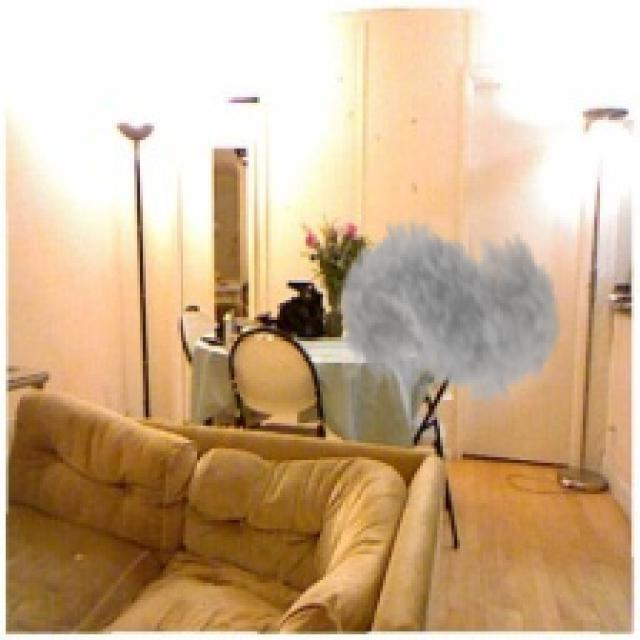Smoke: (337, 194, 563, 423)
